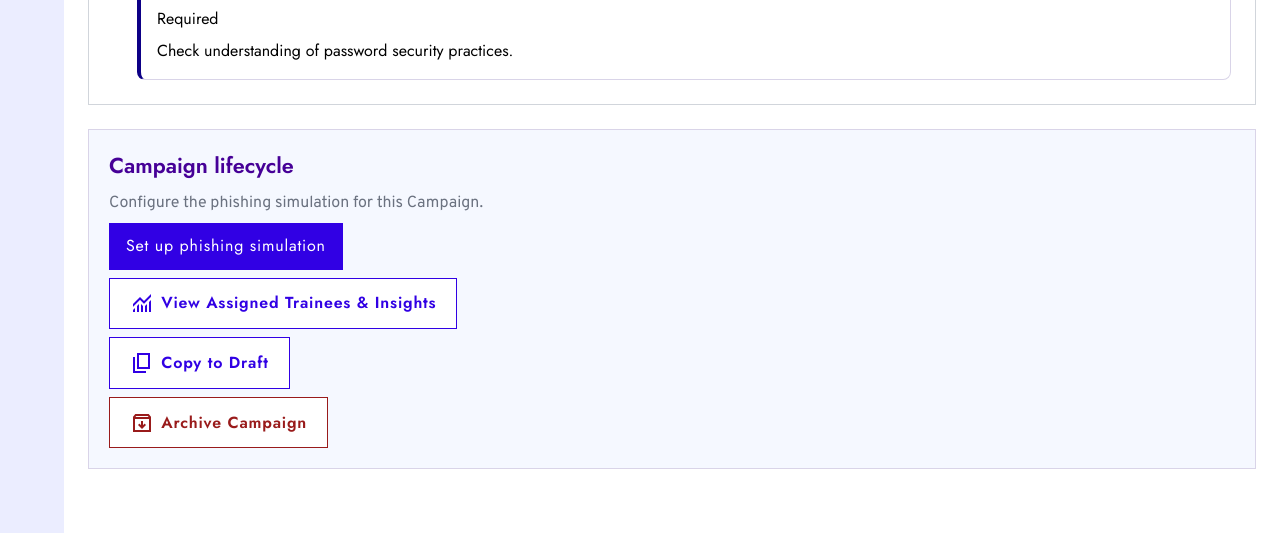
CampaignManagementDetailPage activation › confirms a permitted unassignment and refreshes authoritative statistics
(page scrolled)
Click the button "View Assigned Trainees & Insights" at x=283, y=303, box [109, 278, 457, 329]
(page scrolled)
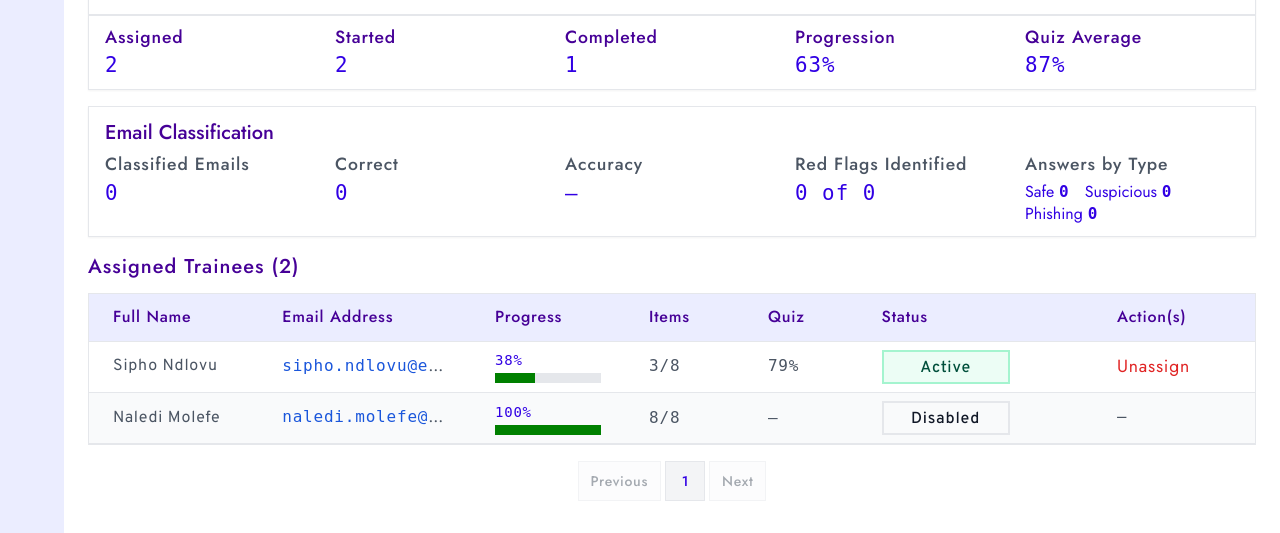
Click the button "Unassign" at x=1154, y=366, box [1117, 354, 1190, 379]
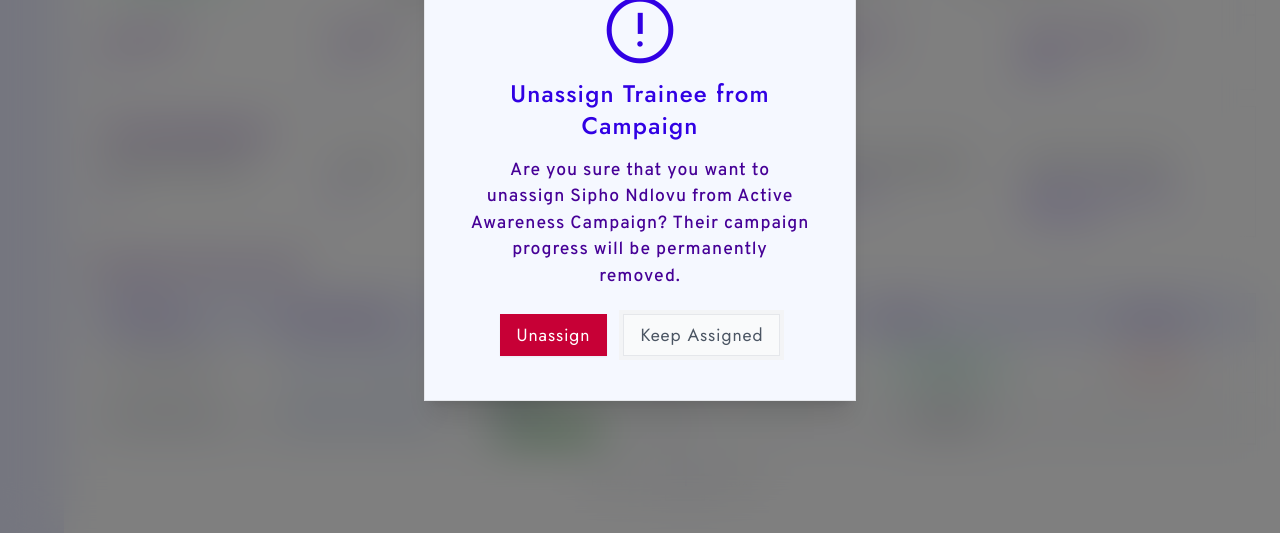
Click the button "Unassign" at x=554, y=335, box [500, 314, 607, 356]
(page scrolled)
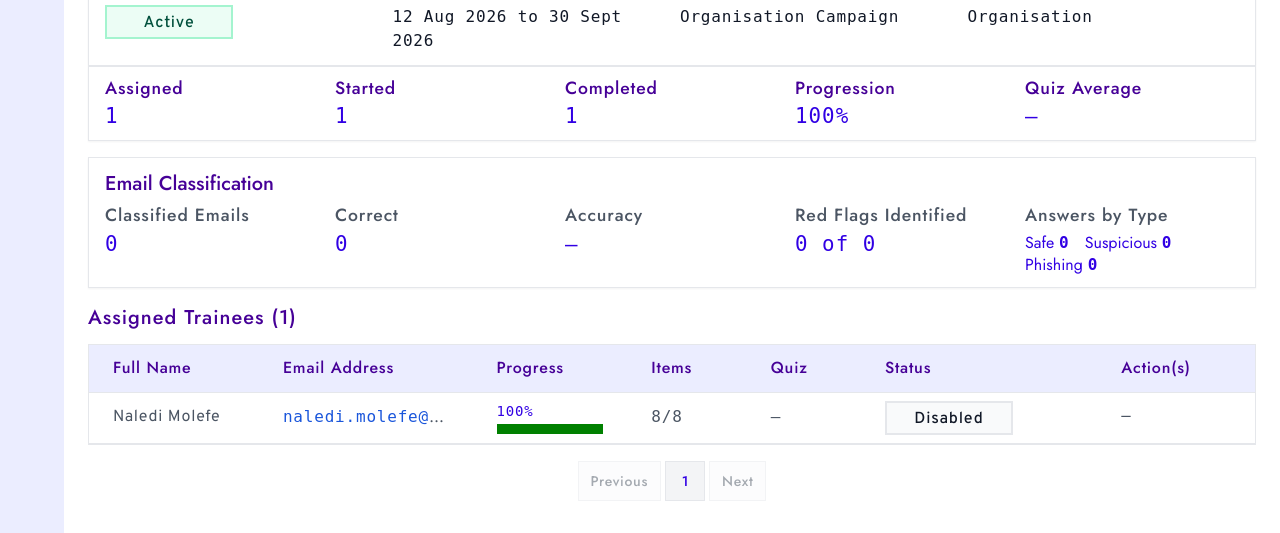
Check: the text "Naledi Molefe" is shown, box [89, 392, 259, 444]
Check: the text "Sipho Ndlovu" is gone
